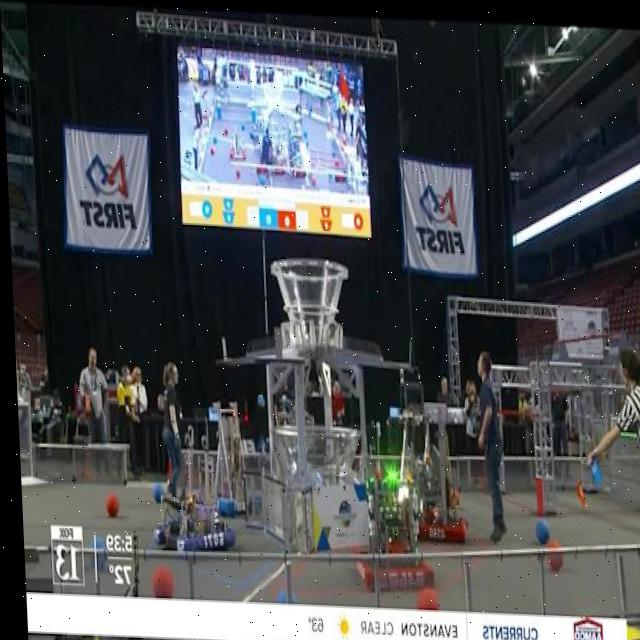robot: (346, 419, 428, 583), (146, 420, 229, 550), (392, 393, 465, 539), (199, 399, 251, 513)
